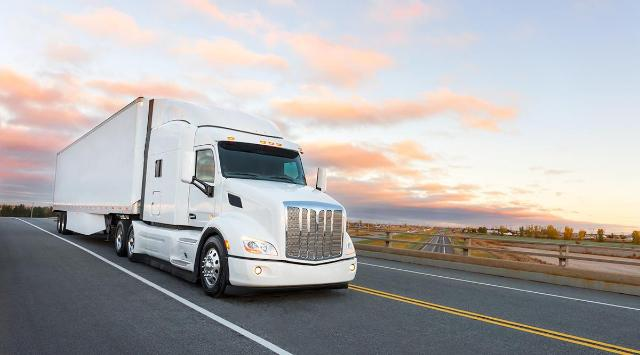truck: (51, 84, 387, 316)
